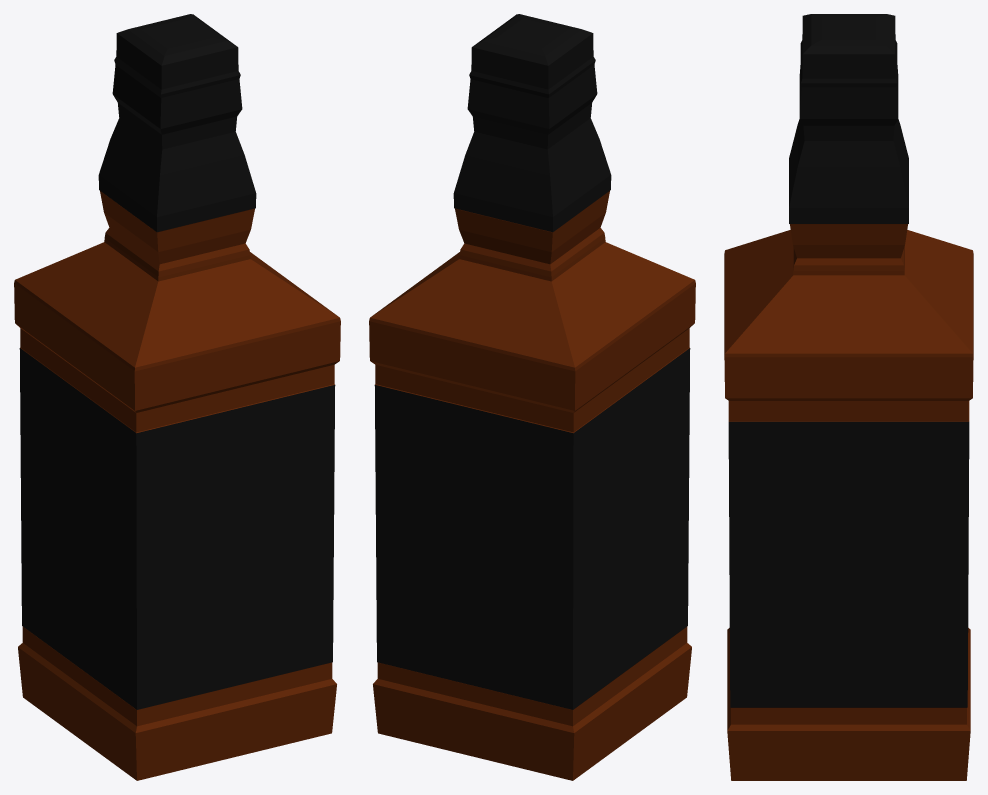
The model's file is liquor.fbx.
3 views of the same model, side by side, from view 1: azimuth 30°, elevation 25°; view 2: azimuth 150°, elevation 25°; view 3: azimuth 270°, elevation 25° (orthographic). The views are drawn at different scales.
Visible parts, largest first — view 1: JackDaniel's; view 2: JackDaniel's; view 3: JackDaniel's.
Boxes of the visible parts, x1,y1,x2,y2 form: JackDaniel's: (14, 14, 340, 780); JackDaniel's: (369, 14, 695, 780); JackDaniel's: (724, 14, 973, 780).
Size of the model in its own units: 9.9 by 31.29 by 10.04.
